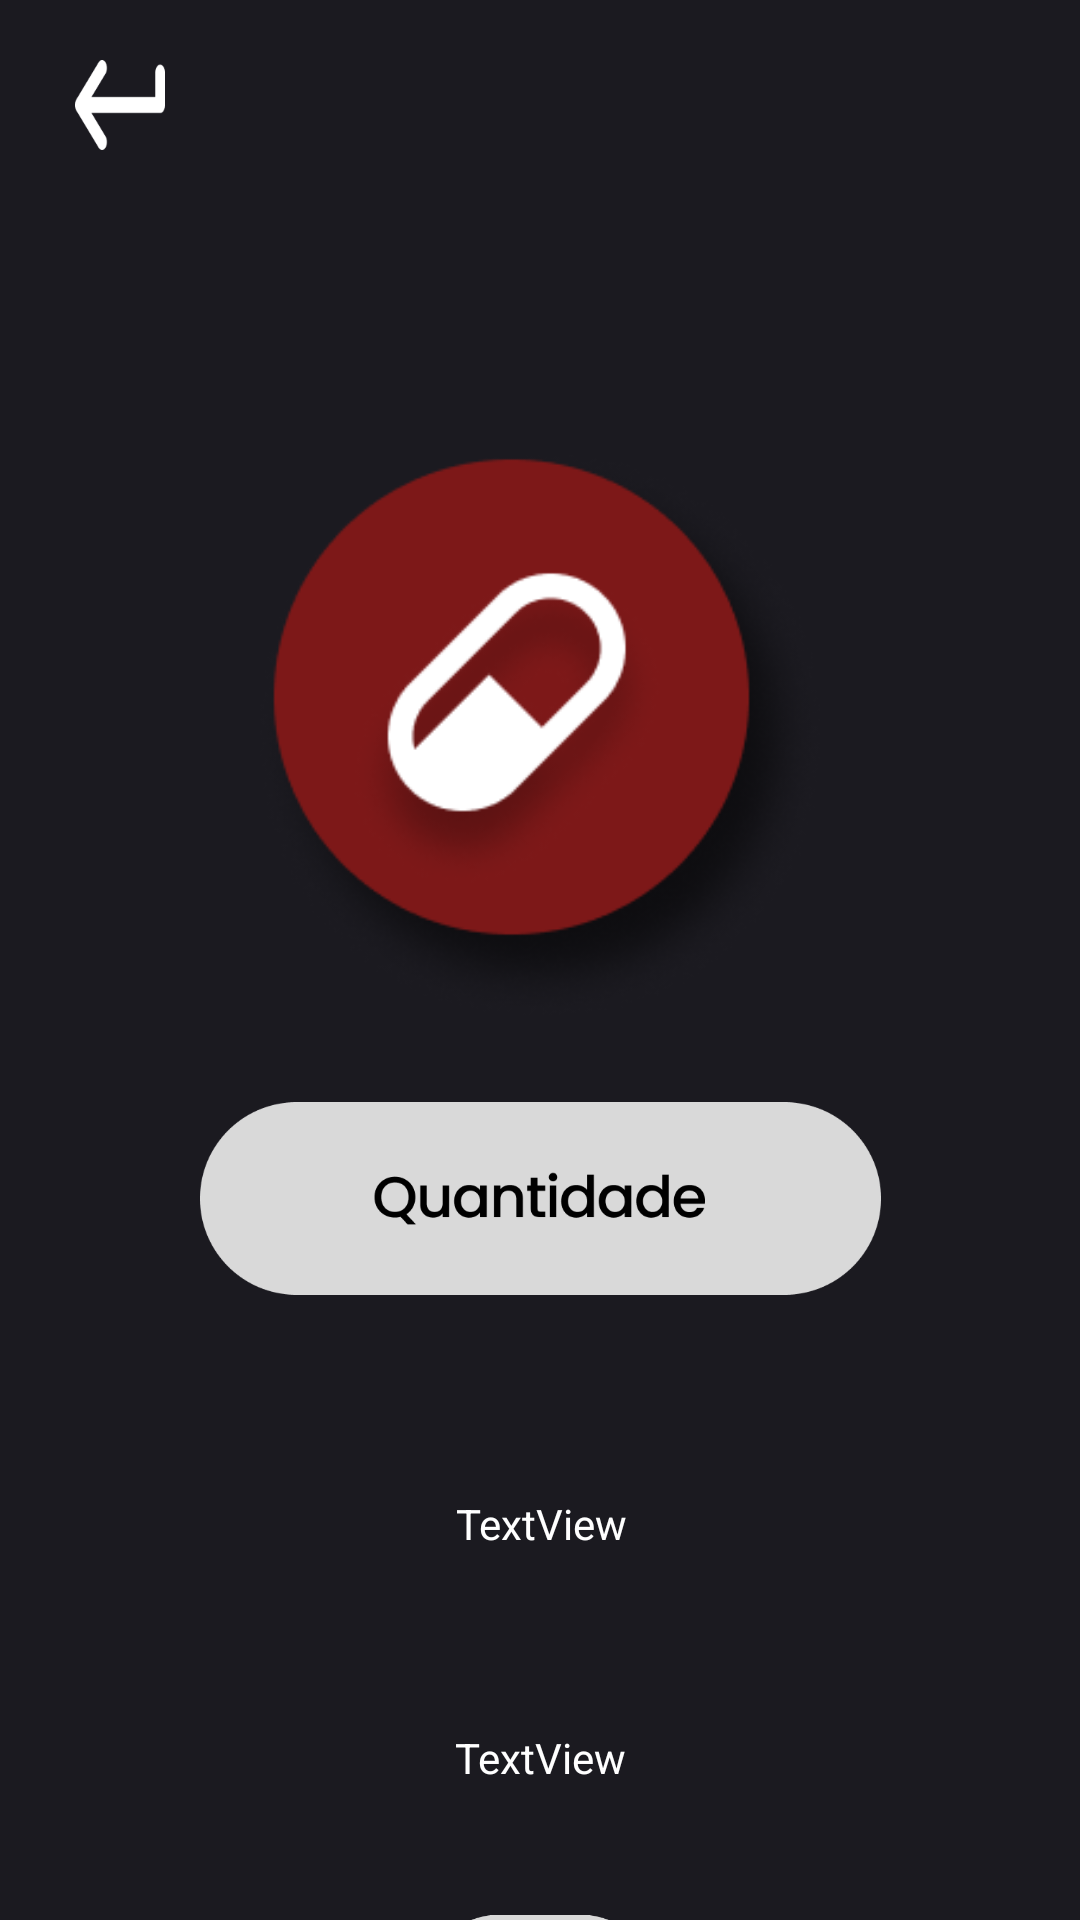

Named icons in this screenshot (1080w x 1920h) and their bounding boxes, box=[x1, y1, x2, y2]:
return: box=[75, 60, 165, 150]
